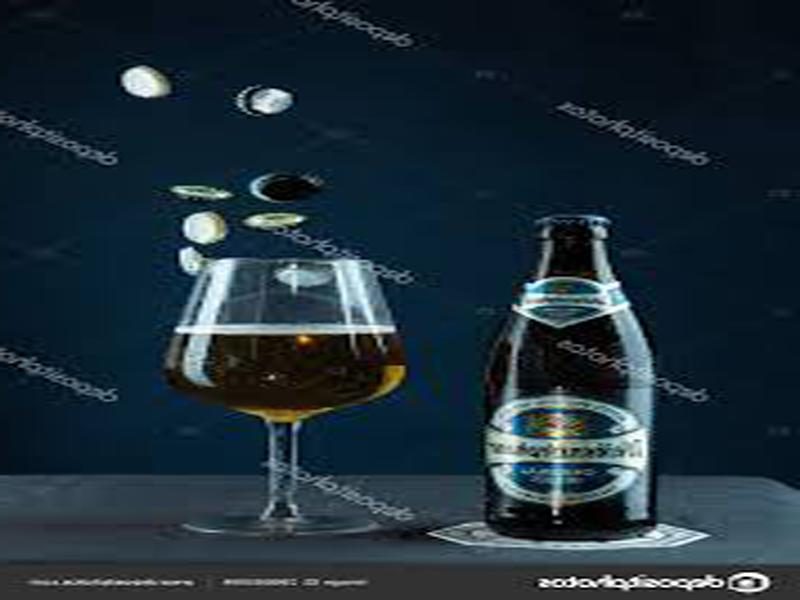Beer: (489, 218, 651, 537)
